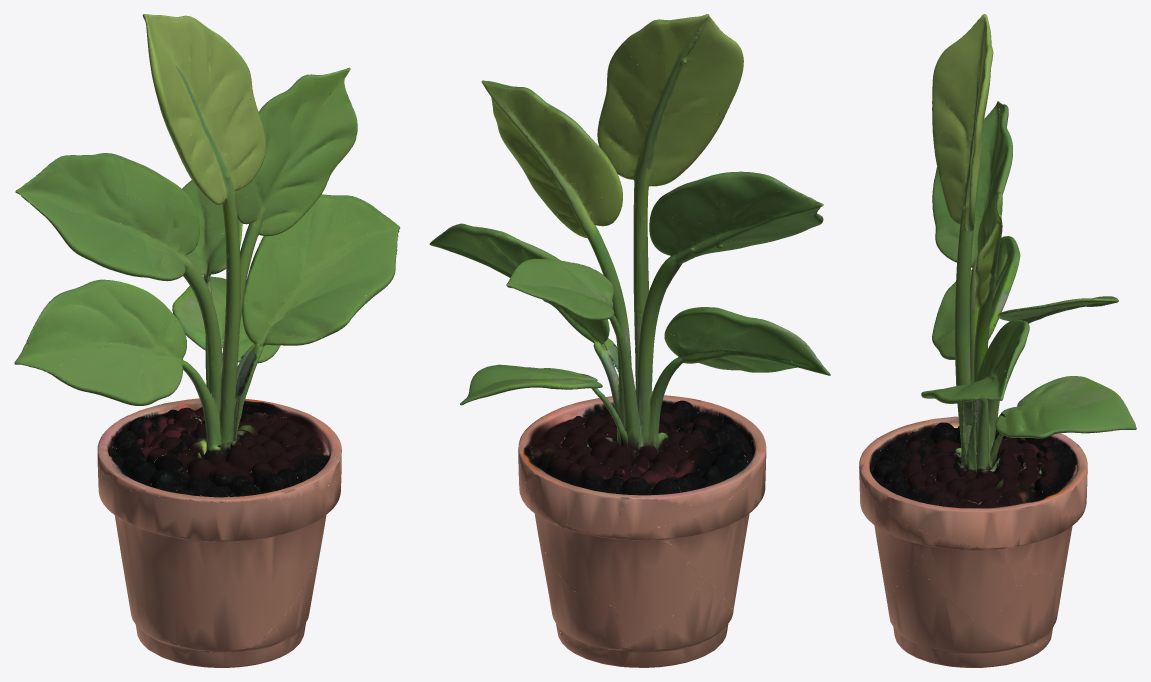
3 renders of one model, left to right at view 1: azimuth 30°, elevation 25°; view 2: azimuth 150°, elevation 25°; view 3: azimuth 270°, elevation 25°, orthographic. The views are drawn at different scales.
Parts seen in each view (by area): view 1: tripo_node_c254cf77-0c25-4326-9dcc-69f1ae6cb9d5; view 2: tripo_node_c254cf77-0c25-4326-9dcc-69f1ae6cb9d5; view 3: tripo_node_c254cf77-0c25-4326-9dcc-69f1ae6cb9d5.
Part boxes in pixels (bbox=[...]): tripo_node_c254cf77-0c25-4326-9dcc-69f1ae6cb9d5: bbox=[14, 14, 400, 667]; tripo_node_c254cf77-0c25-4326-9dcc-69f1ae6cb9d5: bbox=[429, 14, 830, 667]; tripo_node_c254cf77-0c25-4326-9dcc-69f1ae6cb9d5: bbox=[859, 14, 1136, 667].
Bounding box in the file's own units: 0.6452 × 0.9999 × 0.4255.
Materials: 1 (1 with a texture image).
